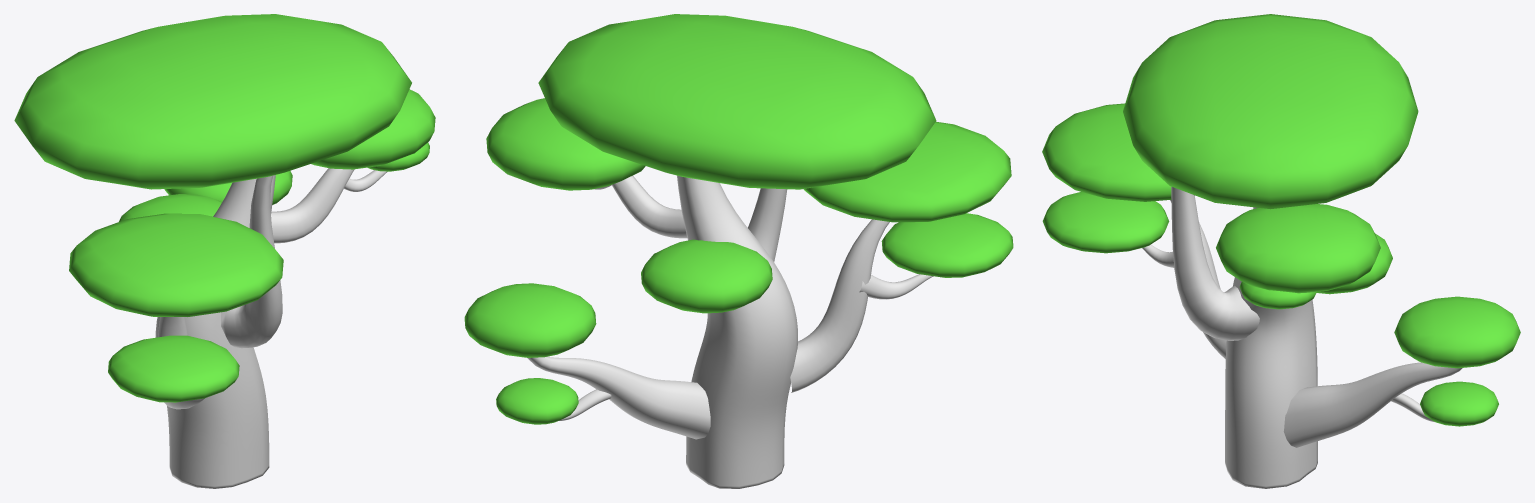
The model's file is tree.glb.
3 renders of one model, left to right at view 1: azimuth 30°, elevation 25°; view 2: azimuth 150°, elevation 25°; view 3: azimuth 270°, elevation 25°, orthographic. The views are drawn at different scales.
Parts seen in each view (by area): view 1: leaf, wood; view 2: leaf, wood; view 3: leaf, wood.
Boxes of the visible parts, bbox=[...] form: leaf: bbox=[14, 14, 435, 402]; wood: bbox=[155, 168, 387, 488]; leaf: bbox=[464, 14, 1013, 424]; wood: bbox=[527, 175, 933, 488]; leaf: bbox=[1042, 14, 1520, 426]; wood: bbox=[1142, 186, 1462, 488].
Bounding box in the file's own units: 10.66 × 10.07 × 10.91.
